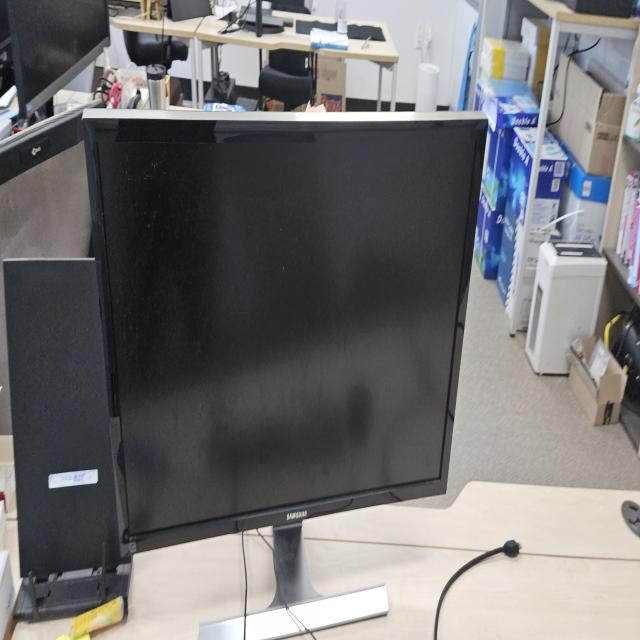Monitor: (80, 100, 490, 630)
